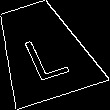L_N: (14, 22, 71, 80)
